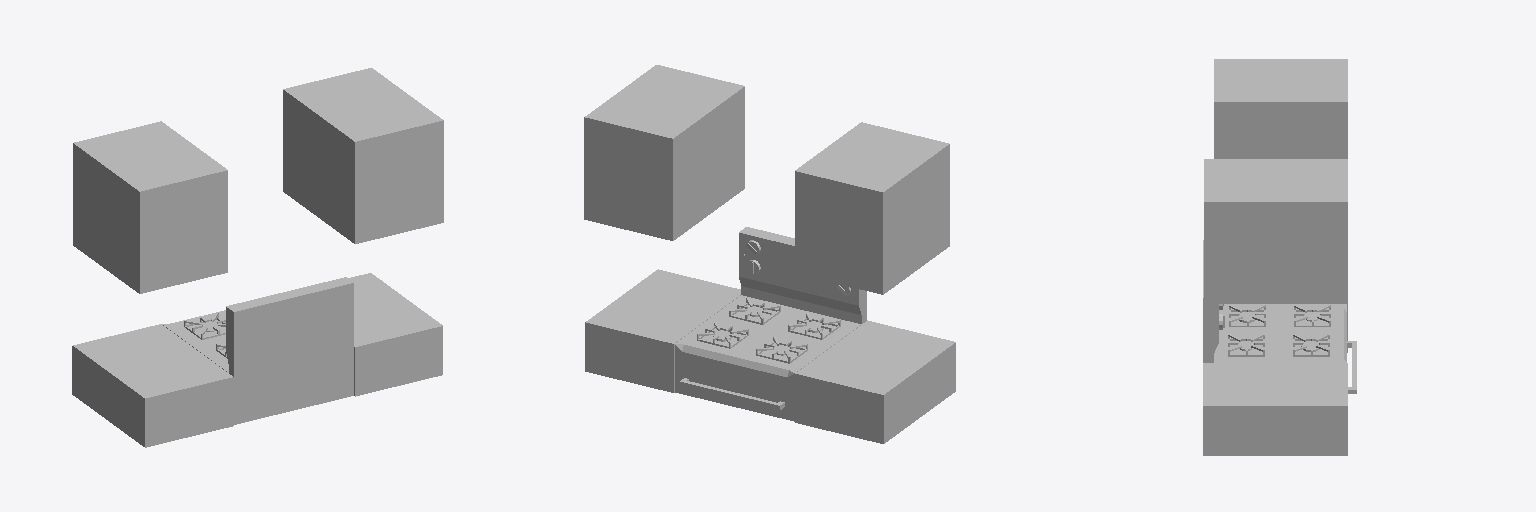
3 views of the same model, side by side, from view 1: azimuth 30°, elevation 25°; view 2: azimuth 150°, elevation 25°; view 3: azimuth 270°, elevation 25° (orthographic).
Visible parts, largest first — view 1: group[number redacted], group[number redacted], group[number redacted], group[number redacted], group[number redacted], group[number redacted]; view 2: group[number redacted], group[number redacted], group[number redacted], group[number redacted], group[number redacted], group[number redacted], group[number redacted]; view 3: group[number redacted], group[number redacted], group[number redacted], group[number redacted], group[number redacted].
Part boxes in pixels (left/top/right/bottom): group[number redacted]: left=283, top=68, right=443, bottom=243; group[number redacted]: left=73, top=121, right=227, bottom=293; group[number redacted]: left=226, top=277, right=353, bottom=424; group[number redacted]: left=72, top=324, right=233, bottom=447; group[number redacted]: left=348, top=273, right=442, bottom=396; group[number redacted]: left=162, top=310, right=228, bottom=372; group[number redacted]: left=584, top=65, right=744, bottom=240; group[number redacted]: left=795, top=122, right=949, bottom=294; group[number redacted]: left=795, top=320, right=955, bottom=443; group[number redacted]: left=585, top=269, right=740, bottom=392; group[number redacted]: left=675, top=295, right=861, bottom=421; group[number redacted]: left=739, top=227, right=866, bottom=323; group[number redacted]: left=684, top=381, right=776, bottom=408; group[number redacted]: left=1204, top=159, right=1347, bottom=303; group[number redacted]: left=1203, top=363, right=1347, bottom=455; group[number redacted]: left=1214, top=59, right=1347, bottom=158; group[number redacted]: left=1214, top=304, right=1346, bottom=362; group[number redacted]: left=1203, top=240, right=1218, bottom=362.
Bounding box in the file's own units: 3.88 × 3.15 × 1.74.